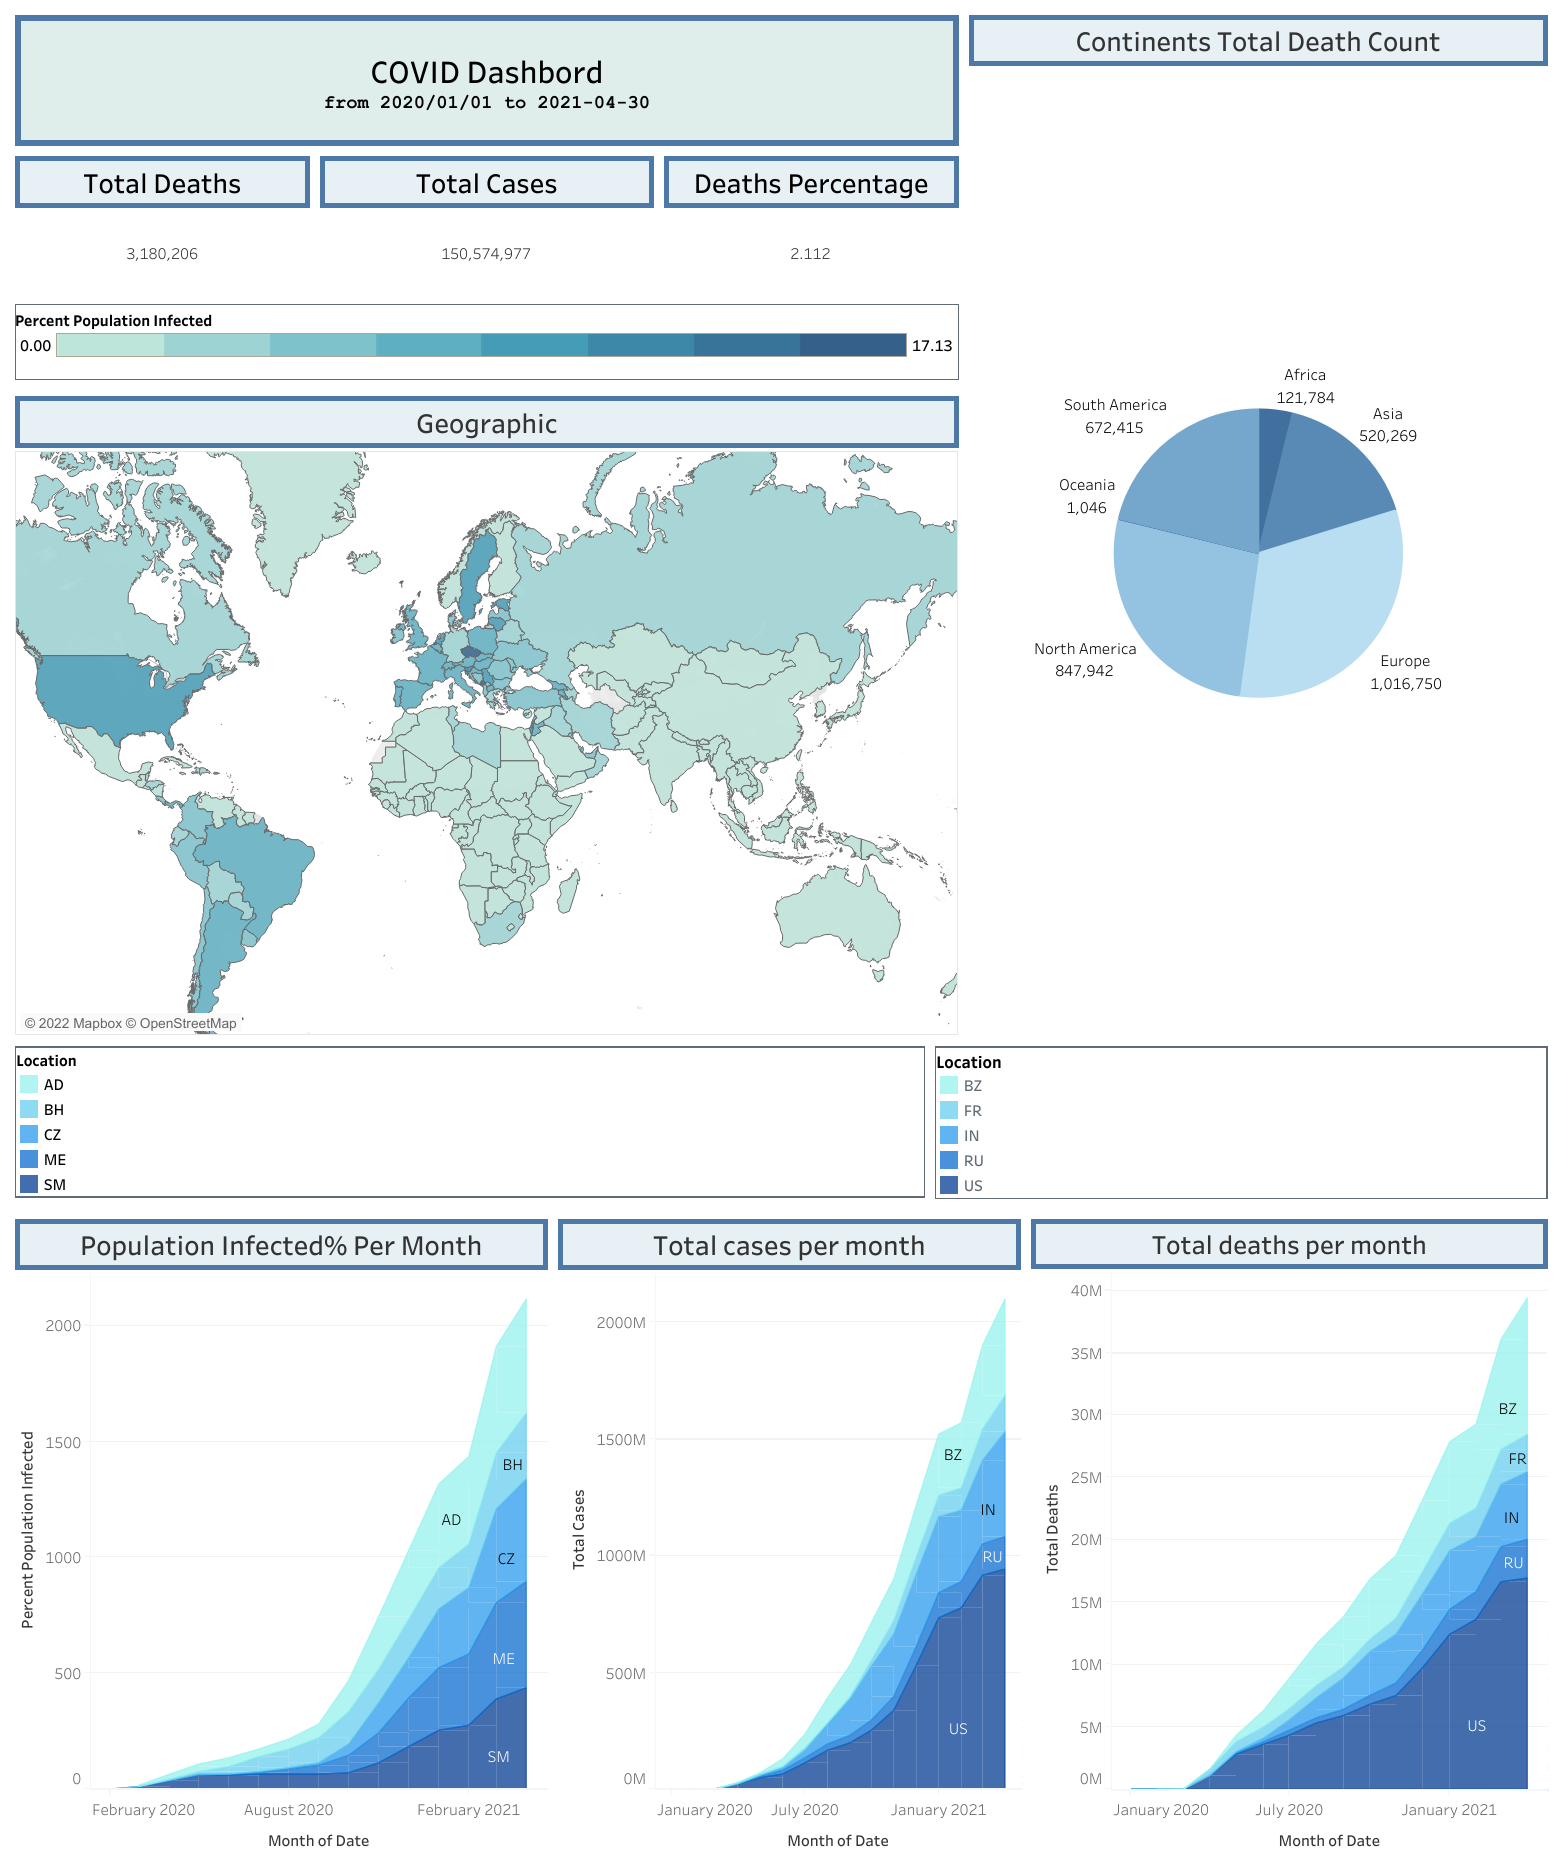

Layout of this report page (visuals, bound fields, positions):
{"tool":"tableau","page":{"name":"Dashboard 1","canvas":[1000,1000],"units":"permille","ordinal":0},"visuals":[{"type":"title","box":[6.4,6.7,610,75.2]},{"type":"worksheet","title":"Continent","mark":"Pie","box":[616.4,6.7,377.2,566.7]},{"type":"worksheet","title":"Total Deaths","mark":"Automatic","box":[6.4,81.8,202.2,78.2]},{"type":"worksheet","title":"Total Cases","mark":"Automatic","box":[208.6,81.8,210.3,78.2]},{"type":"worksheet","title":"Total Deaths %","mark":"Automatic","box":[418.9,81.8,197.5,78.2]},{"type":"legend","title":"Geographic","param":"[federated.1ko44n2142psuw1av6ea000wjy2n].[sum:PercentPopulationInfected:qk]","box":[6.4,160,610,49.1]},{"type":"worksheet","title":"Geographic","mark":"Automatic","box":[6.4,209.2,610,364.2]},{"type":"legend","title":"Total cases per month","param":"[federated.033785c06sxhvl1ep8tqw185xk45].[none:location:nk]","box":[6.4,573.3,659.3,73.3]},{"type":"legend","title":"Percent Population Infected","param":"[federated.0pzhfm50f7bm7n1fijynm0j0wk7l].[none:location:nk]","box":[665.7,573.3,327.9,73.3]},{"type":"worksheet","title":"Total deaths per month","mark":"Area","rows":["total_deaths"],"cols":["date"],"box":[6.4,646.6,346.1,346.7]},{"type":"worksheet","title":"Total cases per month","mark":"Area","rows":["total_cases"],"cols":["date"],"box":[352.5,646.6,313.5,346.7]},{"type":"worksheet","title":"Percent Population Infected","mark":"Area","rows":["PercentPopulationInfected"],"cols":["date"],"box":[665.9,646.6,327.7,346.7]}]}

Visuals, with their boxes on the dashboard's canvas, which has no fixed pixel size, in thousandths of its width and height (x1, y1, x2, y2). These are canvas units, not pixel positions in the 1561x1874 screenshot, which may show the page scaled, cropped or inside an application window:
title: bbox=[6, 7, 616, 82]
"Continent" worksheet (Pie marks): bbox=[616, 7, 994, 573]
"Total Deaths" worksheet: bbox=[6, 82, 209, 160]
"Total Cases" worksheet: bbox=[209, 82, 419, 160]
"Total Deaths %" worksheet: bbox=[419, 82, 616, 160]
"Geographic" legend: bbox=[6, 160, 616, 209]
"Geographic" worksheet: bbox=[6, 209, 616, 573]
"Total cases per month" legend: bbox=[6, 573, 666, 647]
"Percent Population Infected" legend: bbox=[666, 573, 994, 647]
"Total deaths per month" worksheet (Area marks): bbox=[6, 647, 352, 993]
"Total cases per month" worksheet (Area marks): bbox=[352, 647, 666, 993]
"Percent Population Infected" worksheet (Area marks): bbox=[666, 647, 994, 993]
